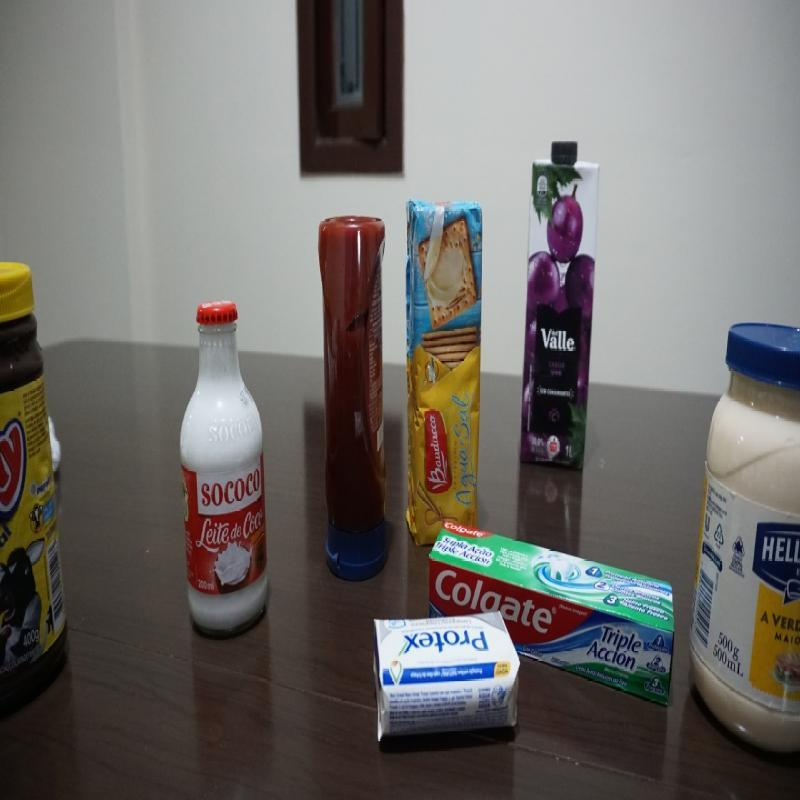Chocolate Powder: (1, 254, 67, 720)
Coconut Milk: (178, 294, 270, 638)
Cracker: (405, 197, 484, 548)
Ketchup: (318, 211, 388, 582)
Mayonnaise: (685, 321, 800, 759)
Soap: (371, 608, 521, 747)
Toothpaste: (427, 516, 676, 622)
